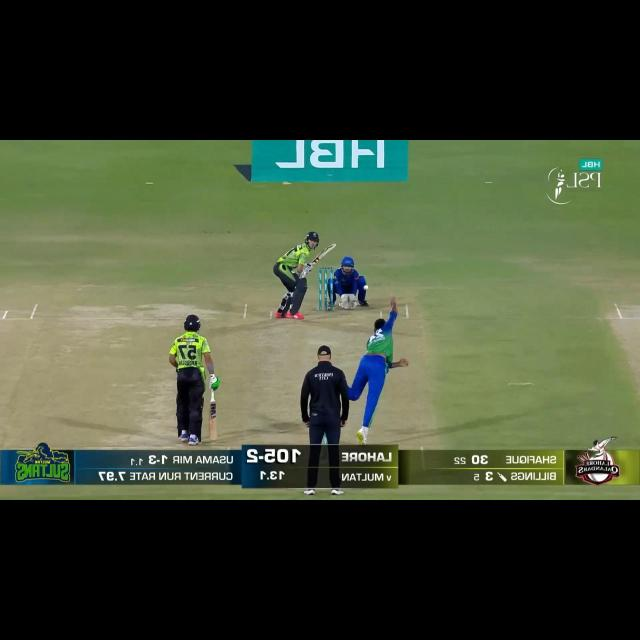bat: (308, 243, 338, 268), (209, 404, 218, 440)
toe: (207, 434, 218, 442), (329, 242, 338, 250)
